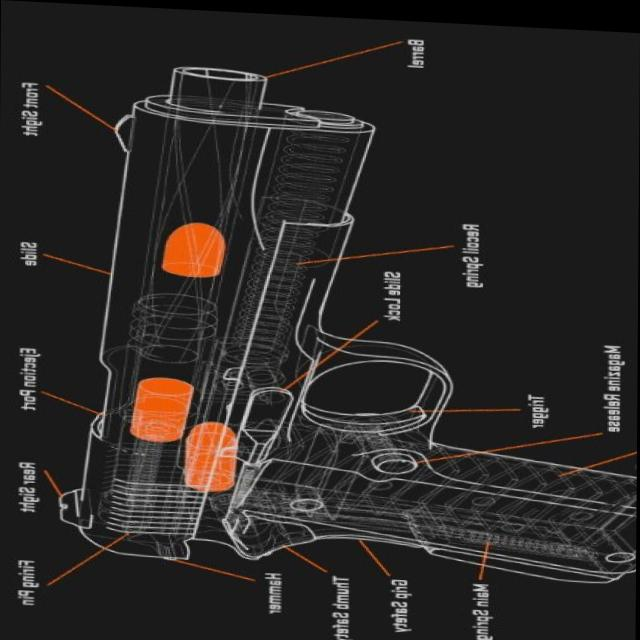handgun: (55, 59, 637, 583)
